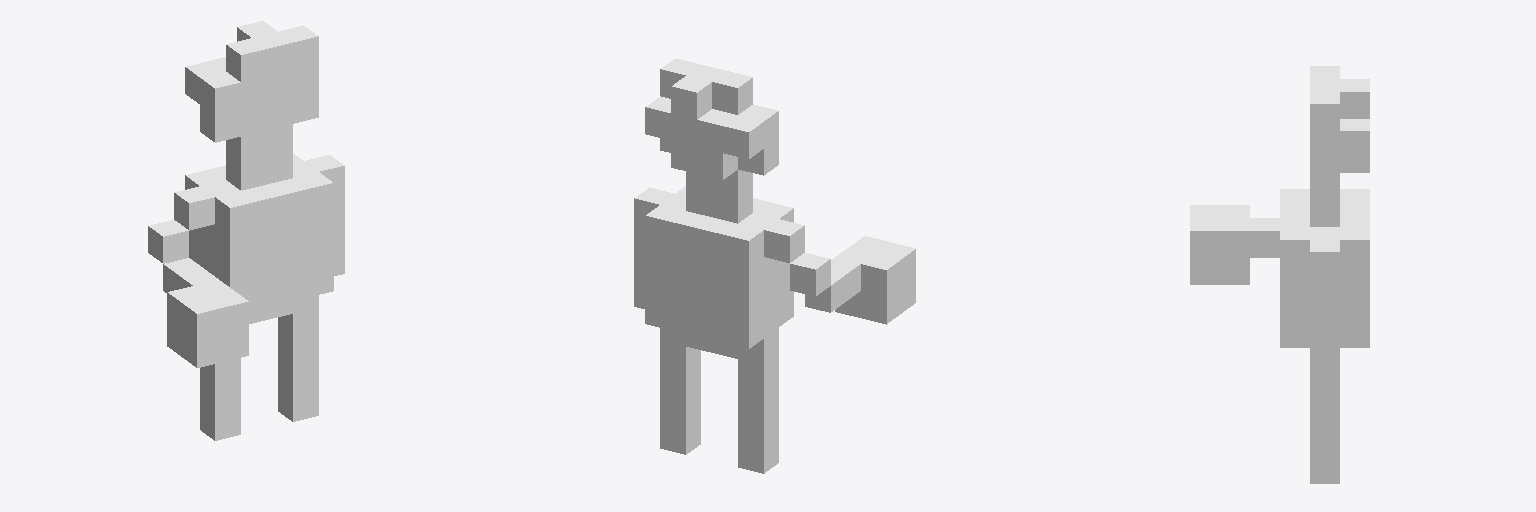
Rendered from scummBarPirate02.obj.
3 views of the same model, side by side, from view 1: azimuth 30°, elevation 25°; view 2: azimuth 150°, elevation 25°; view 3: azimuth 270°, elevation 25° (orthographic).
Bounding box in the file's own units: 8 × 14 × 6.